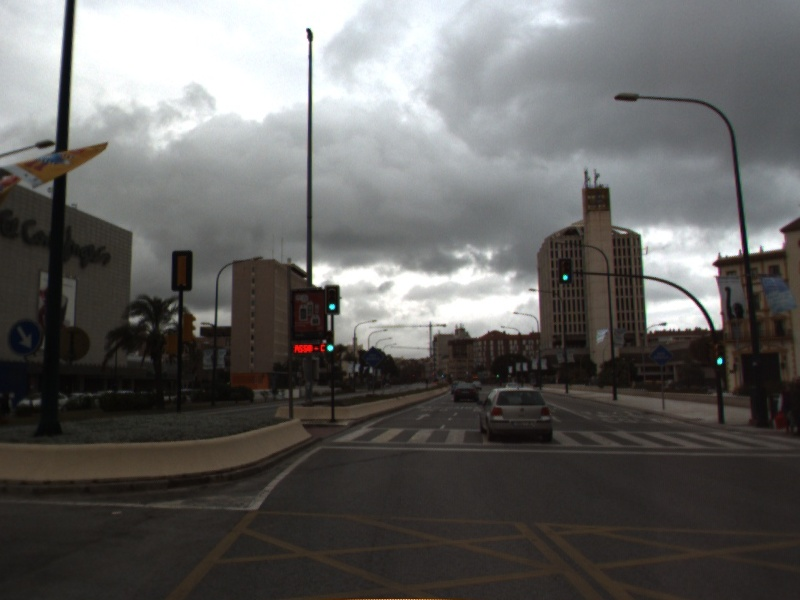STRAIGHT: (413, 411, 433, 422)
